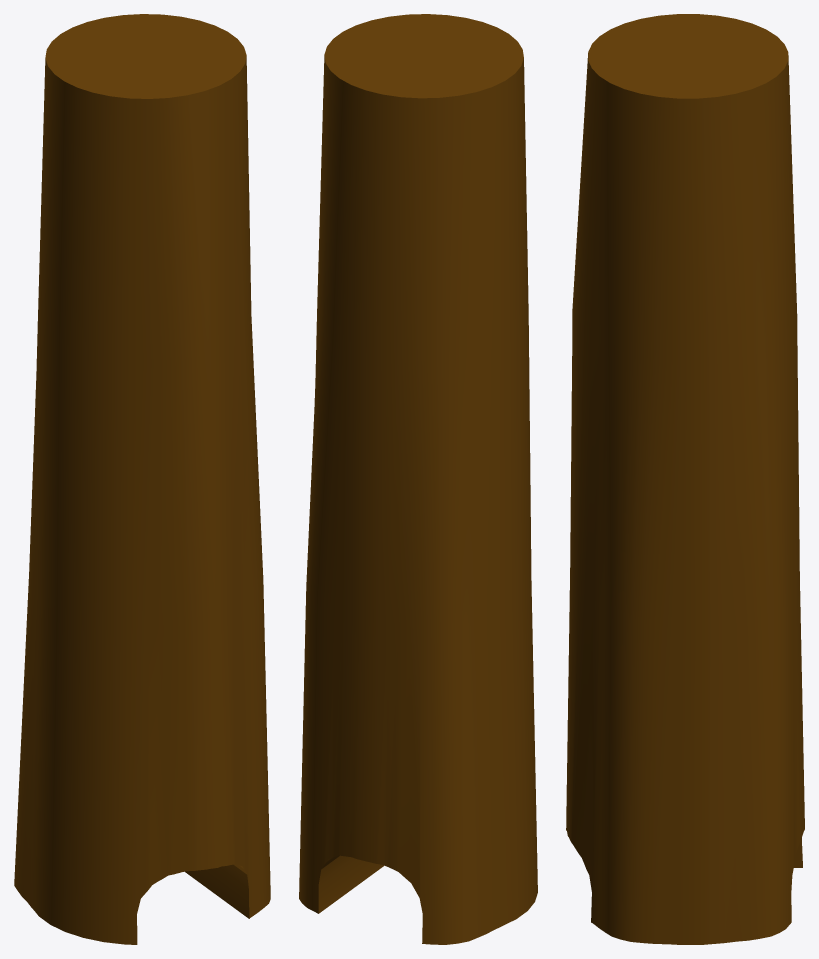
The model's file is Grand_Arbre_Trou.fbx.
3 views of the same model, side by side, from view 1: azimuth 30°, elevation 25°; view 2: azimuth 150°, elevation 25°; view 3: azimuth 270°, elevation 25° (orthographic).
Parts seen in each view (by area): view 1: GrandArbres.001; view 2: GrandArbres.001; view 3: GrandArbres.001.
Part boxes in pixels (box(x1,y1,x2,y2)): GrandArbres.001: box(14, 14, 270, 944); GrandArbres.001: box(299, 14, 537, 944); GrandArbres.001: box(566, 14, 804, 944).
Size of the model in its own units: 364 by 1460 by 376.
